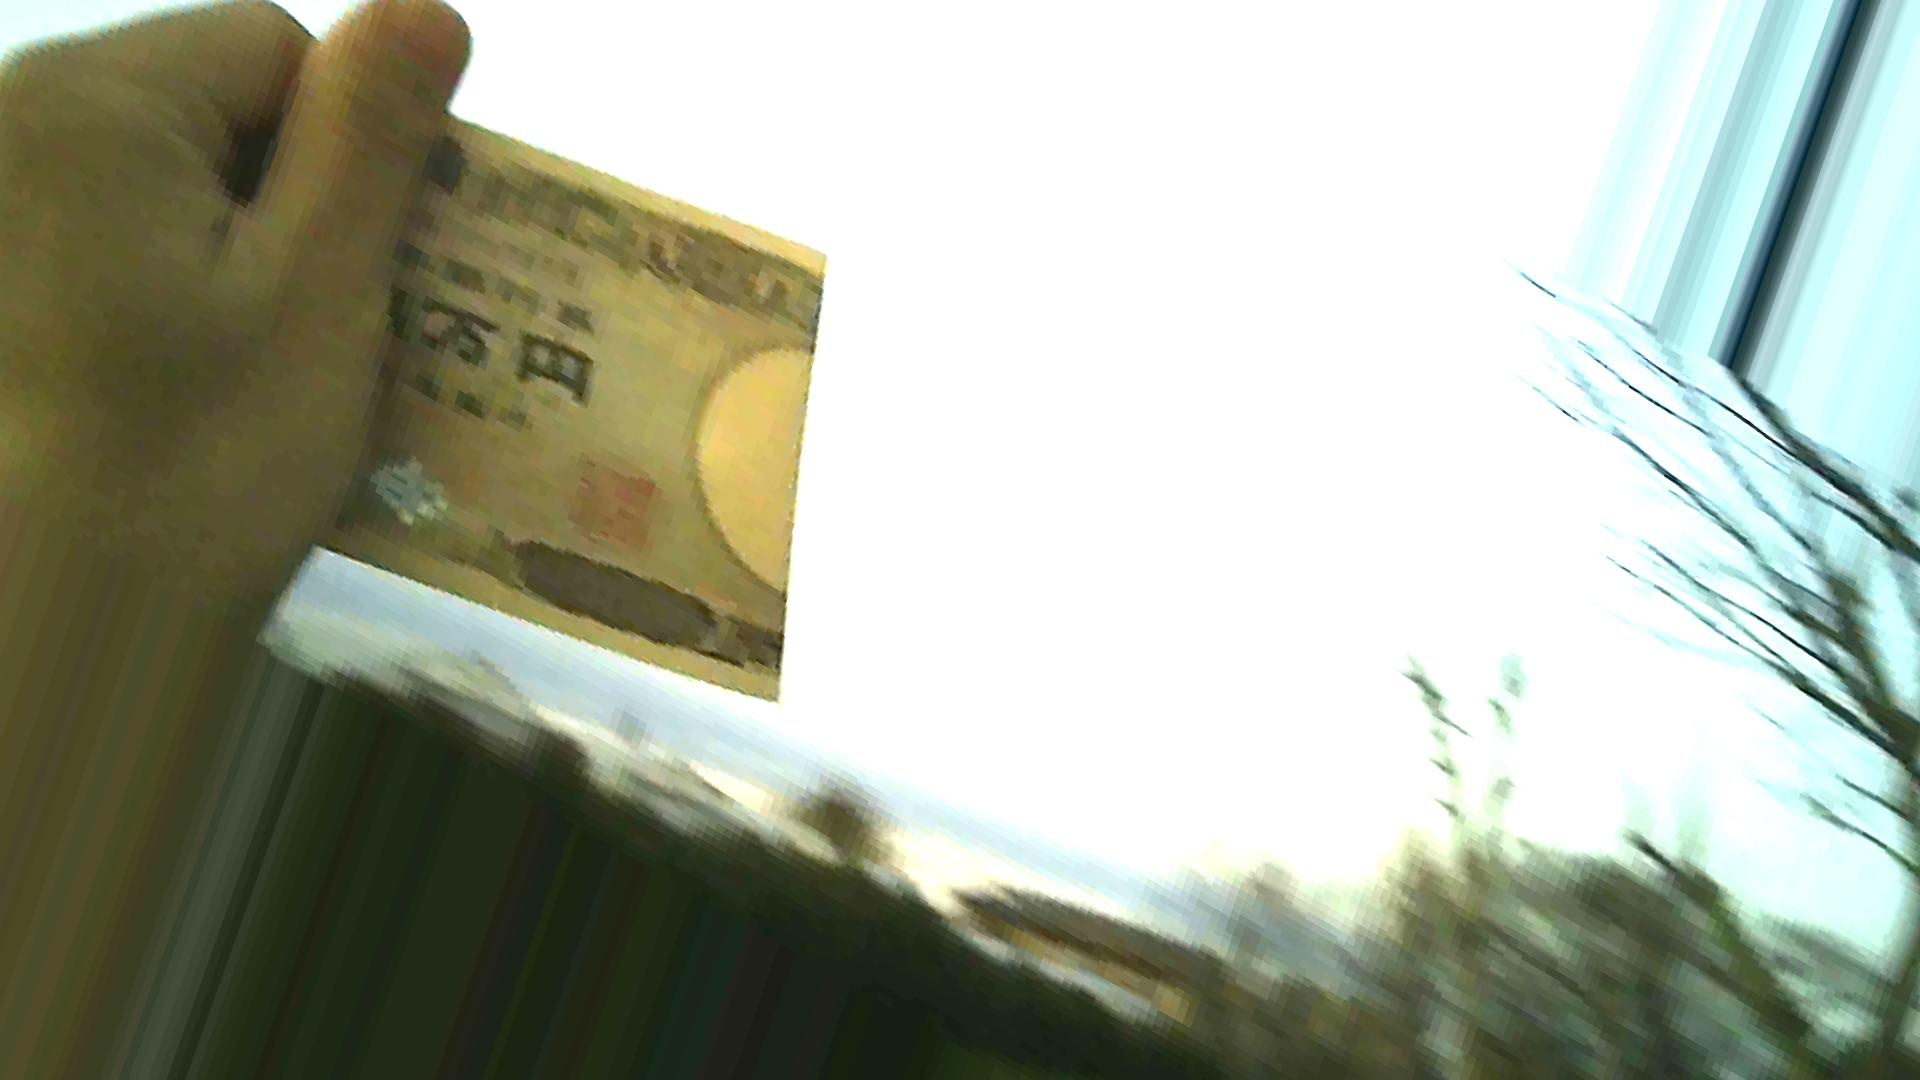10,000 Yen: (305, 98, 873, 725)
